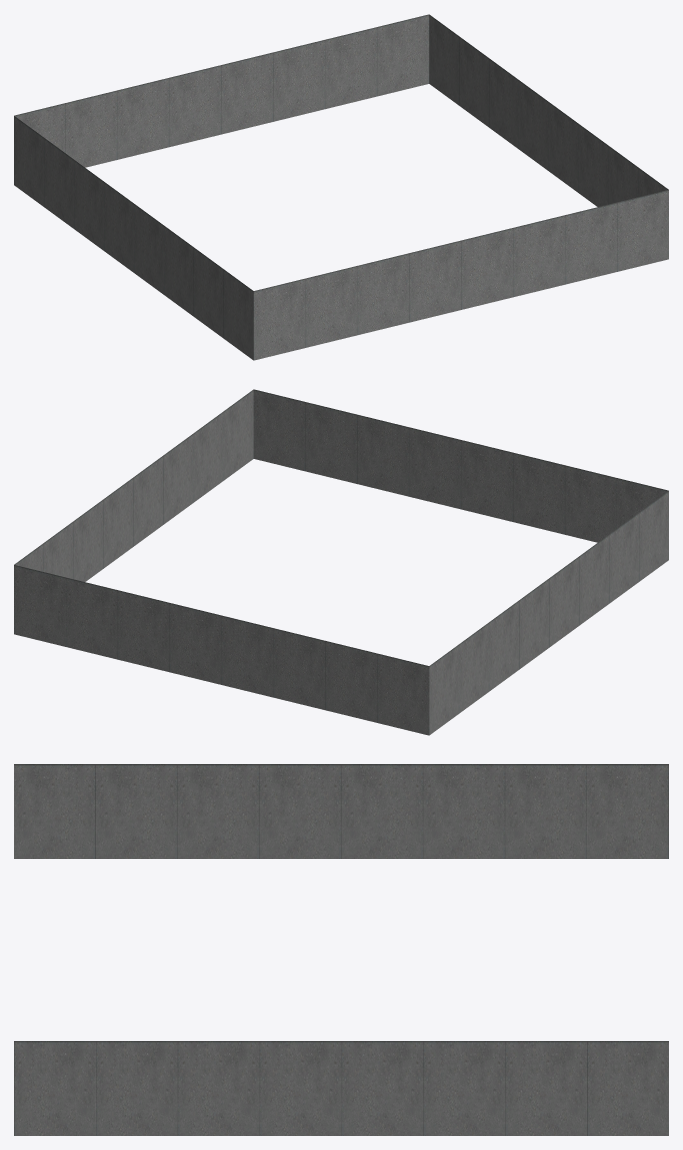
The picture shows the model from 3 angles, top to bottom: view 1: azimuth 30°, elevation 25°; view 2: azimuth 150°, elevation 25°; view 3: azimuth 270°, elevation 25°; orthographic projection. The views are drawn at different scales.
Parts seen in each view (by area): view 1: Joint_0_Object_0; view 2: Joint_0_Object_0; view 3: Joint_0_Object_0.
Boxes of the visible parts, bbox=[...] form: Joint_0_Object_0: bbox=[14, 14, 668, 360]; Joint_0_Object_0: bbox=[14, 389, 668, 735]; Joint_0_Object_0: bbox=[14, 764, 668, 1135].
Bounding box in the file's own units: 10000 × 1600 × 10000.
